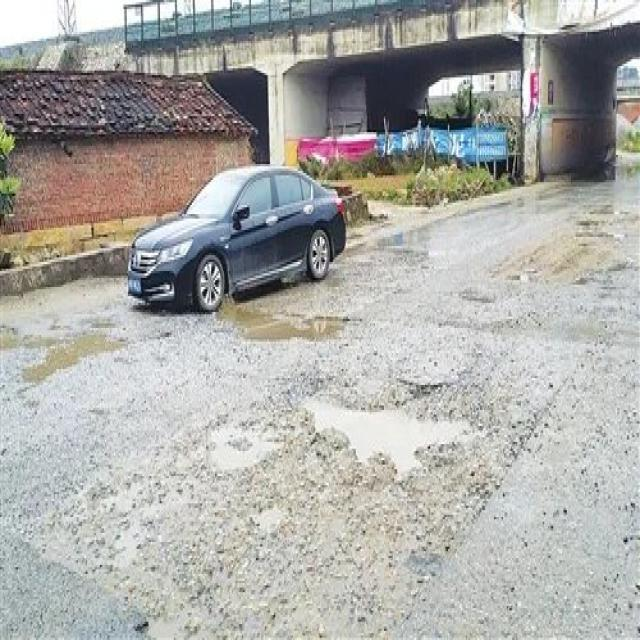pothole: (300, 385, 502, 485), (10, 328, 122, 385), (227, 310, 353, 351)
